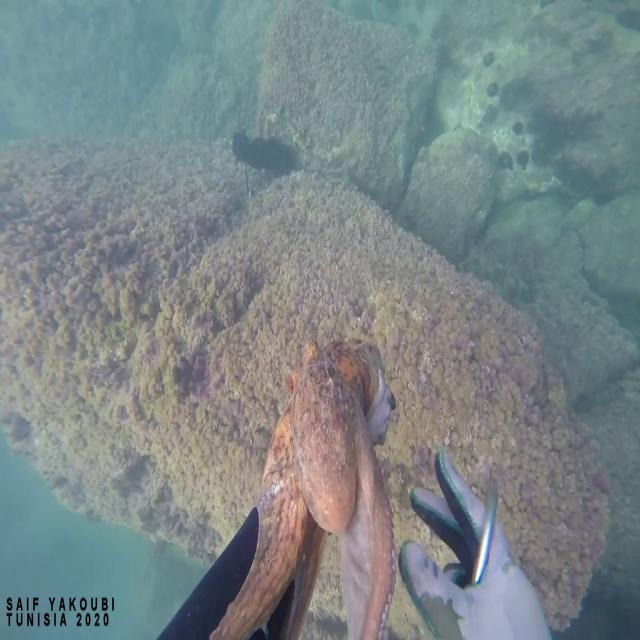octopus: (206, 326, 397, 640)
